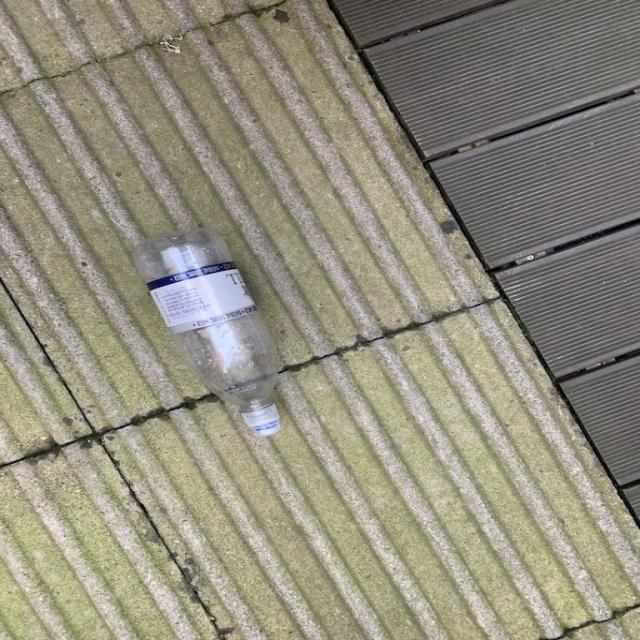Waste: (134, 229, 280, 437)
